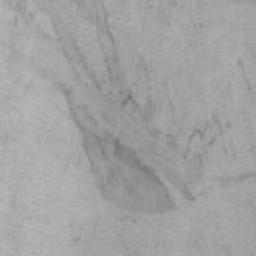Water spot: (0, 0, 214, 218), (223, 0, 256, 8)
